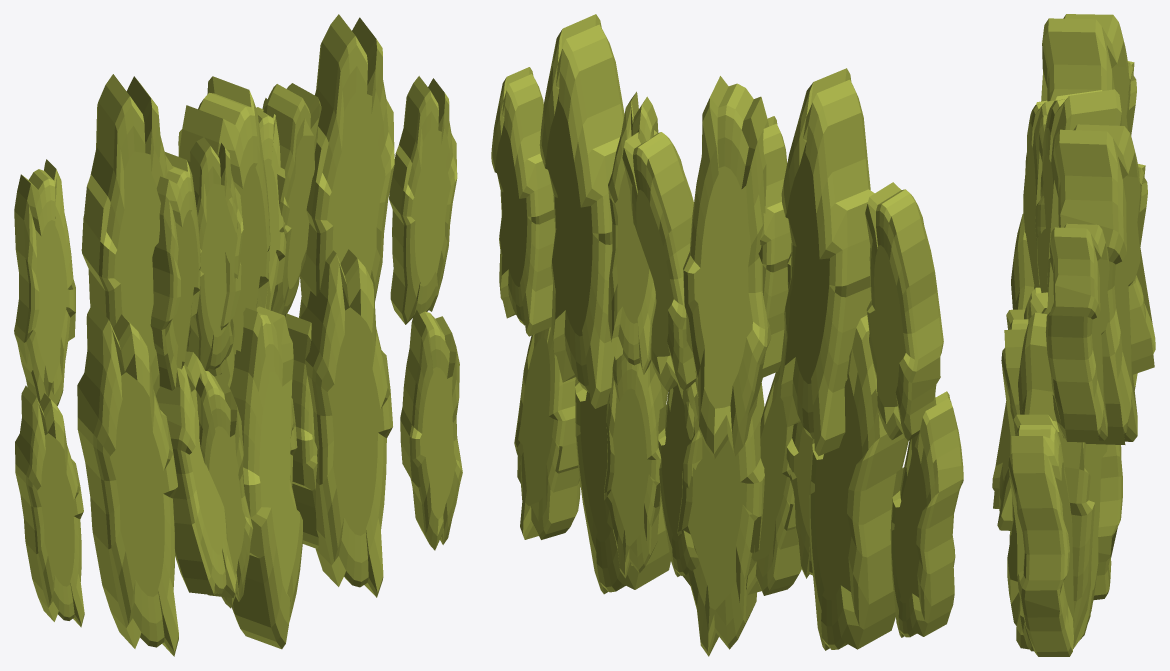
Rendered from lettuce_3.fbx.
The picture shows the model from 3 angles, left to right: view 1: azimuth 30°, elevation 25°; view 2: azimuth 150°, elevation 25°; view 3: azimuth 270°, elevation 25°; orthographic projection. The views are drawn at different scales.
Parts seen in each view (by area): view 1: Cylinder.021; view 2: Cylinder.021; view 3: Cylinder.021.
Boxes of the visible parts, left/top/right/bottom form: Cylinder.021: left=14, top=14, right=462, bottom=656; Cylinder.021: left=491, top=14, right=963, bottom=656; Cylinder.021: left=992, top=14, right=1155, bottom=656.
Bounding box in the file's own units: 3776 × 4797 × 1266.
